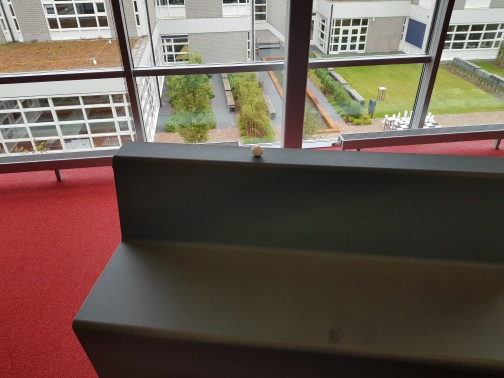egg: (249, 145, 266, 158)
